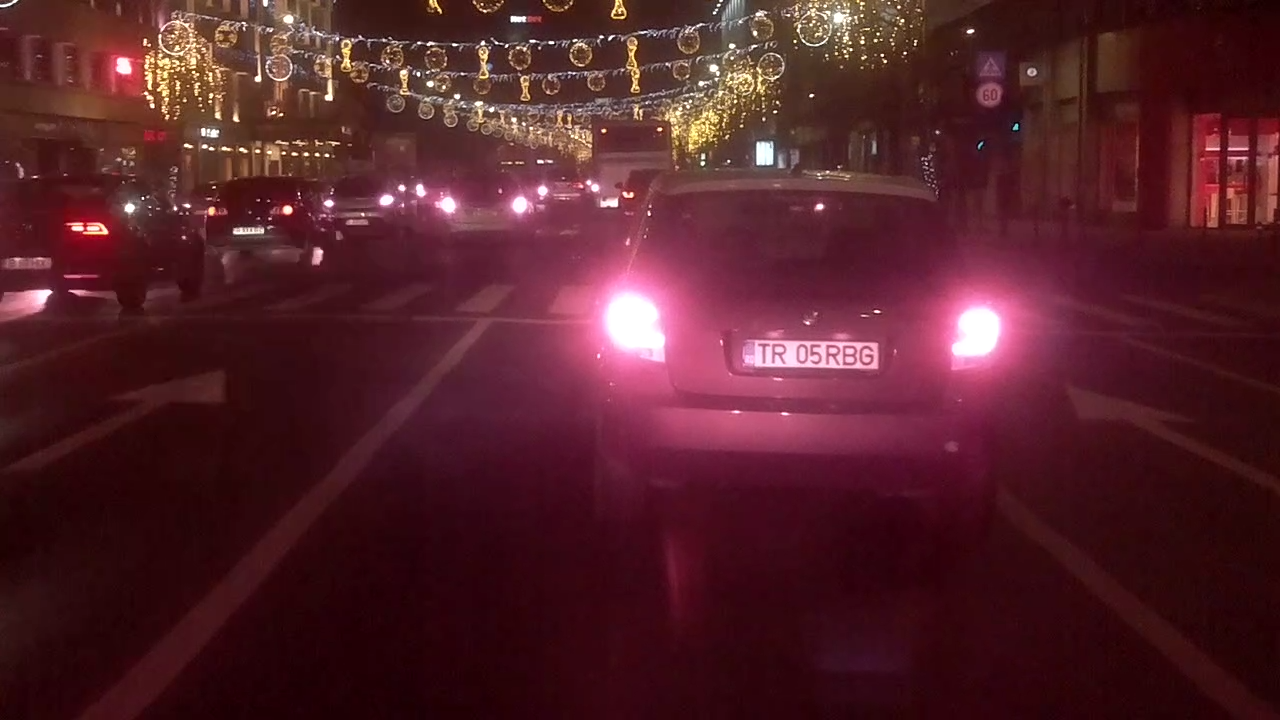license-plate: (739, 334, 884, 373)
